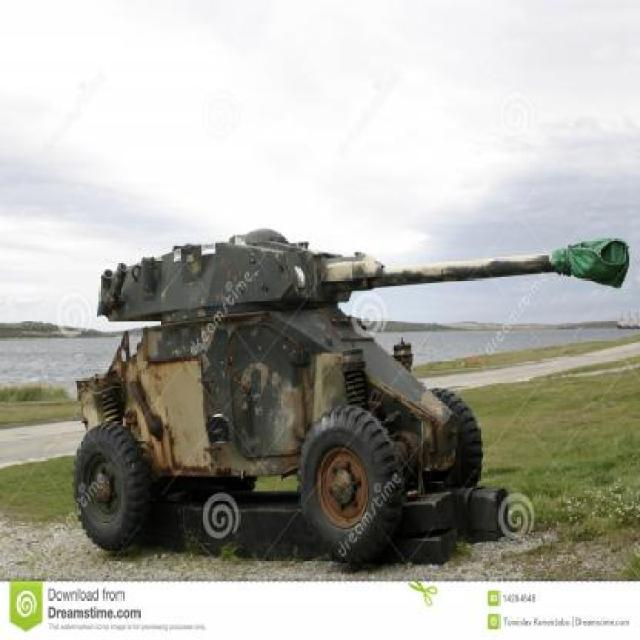corrosion: (69, 227, 633, 565)
